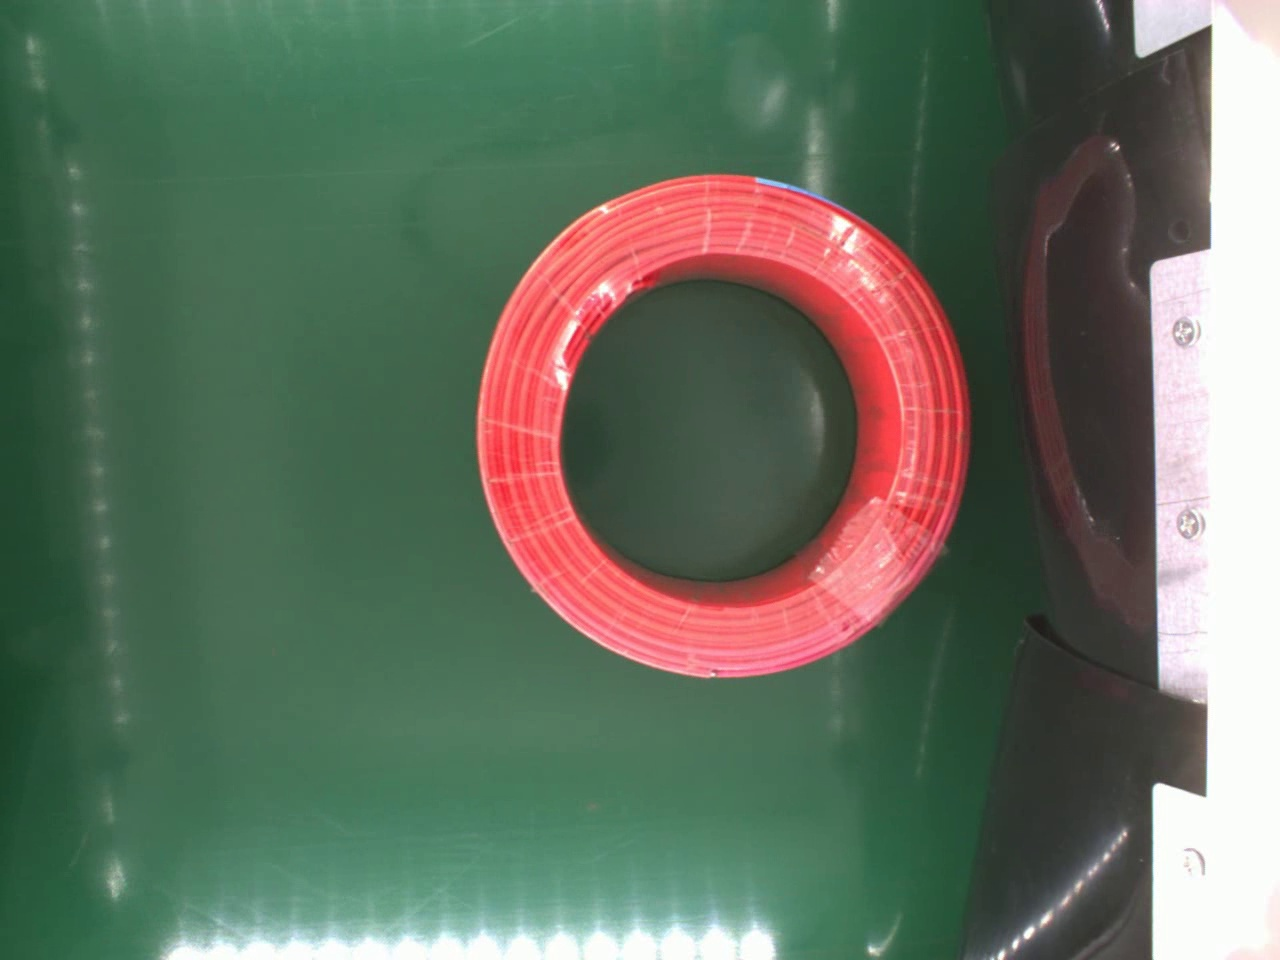red: (474, 172, 975, 680)
